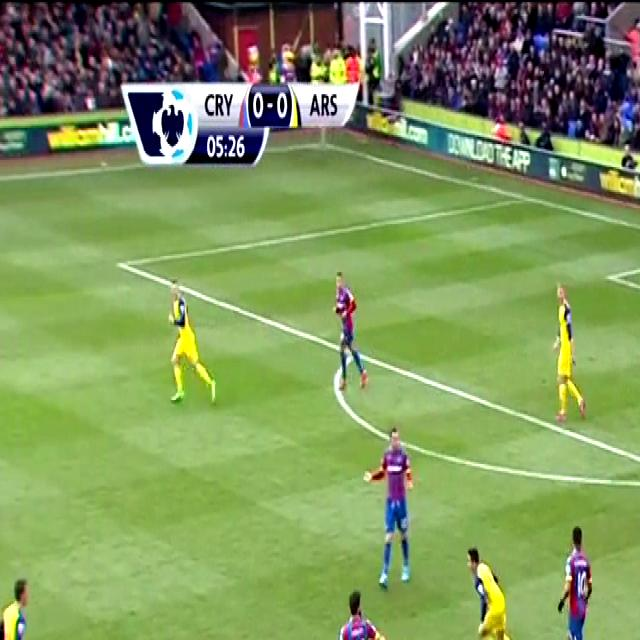ball: (396, 631, 420, 640)
soccer-player: (364, 407, 424, 594), (159, 270, 219, 418), (550, 508, 606, 640), (548, 270, 593, 433), (461, 530, 521, 640), (324, 255, 369, 397), (334, 581, 413, 640), (0, 563, 49, 640)
